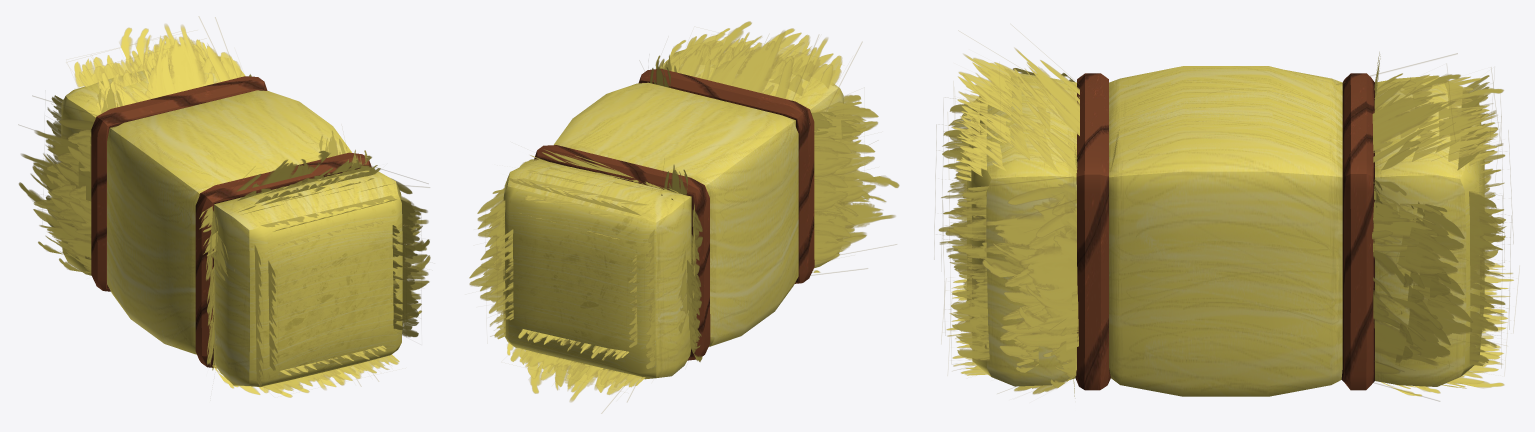
Rendered from hay_bale.glb.
3 views of the same model, side by side, from view 1: azimuth 30°, elevation 25°; view 2: azimuth 150°, elevation 25°; view 3: azimuth 270°, elevation 25° (orthographic). The views are drawn at different scales.
Parts seen in each view (by area): view 1: pCube1, pPlane46, pPlane47; view 2: pCube1, pPlane46, pPlane47; view 3: pCube1, pPlane46, pPlane47.
Boxes of the visible parts, x1,y1,x2,y2 form: pCube1: (61,56,402,386); pPlane46: (32,17,430,397); pPlane47: (18,17,429,392); pCube1: (503,49,844,379); pPlane46: (489,21,869,401); pPlane47: (469,28,899,413); pCube1: (967,66,1484,396); pPlane46: (941,47,1504,396); pPlane47: (934,54,1519,401).
Size of the model in its own units: 8.13 by 7.96 by 13.31.
2 materials, 2 textured.
